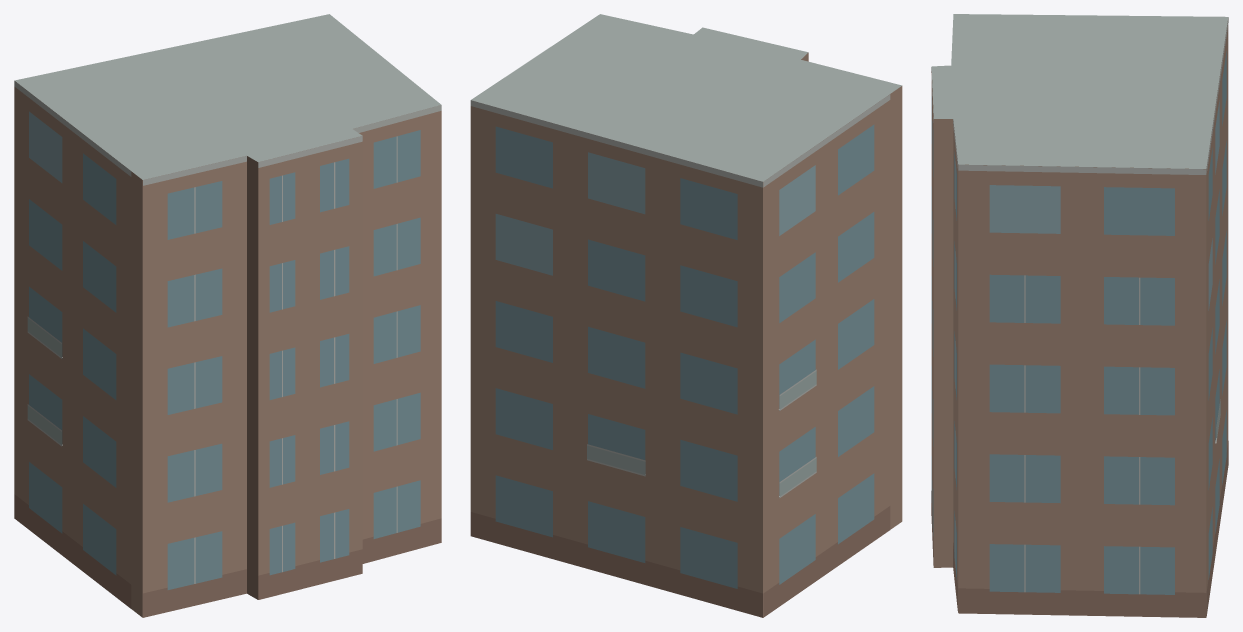
File: survey-upis-32558831.glb
The picture shows the model from 3 angles, left to right: view 1: azimuth 30°, elevation 25°; view 2: azimuth 150°, elevation 25°; view 3: azimuth 270°, elevation 25°; orthographic projection. The views are drawn at different scales.
Visible parts, largest first — view 1: survey-upis-32558831.tmp; view 2: survey-upis-32558831.tmp; view 3: survey-upis-32558831.tmp.
Boxes of the visible parts, x1,y1,x2,y2 form: survey-upis-32558831.tmp: [14, 14, 441, 617]; survey-upis-32558831.tmp: [470, 14, 902, 617]; survey-upis-32558831.tmp: [931, 14, 1228, 617].
Size of the model in its own units: 13.45 by 18.14 by 10.88.
